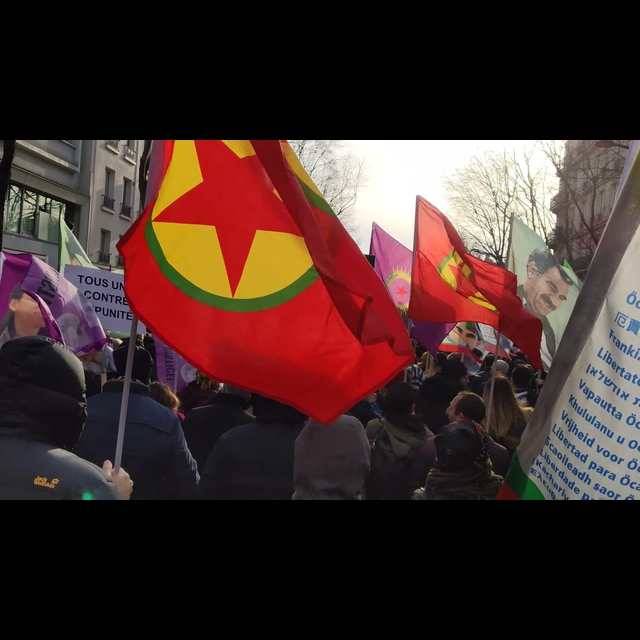APO: (525, 250, 568, 322)
